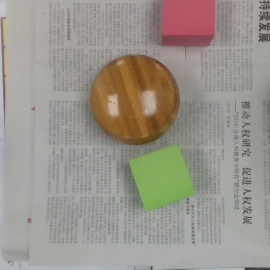chess: (90, 55, 179, 149)
